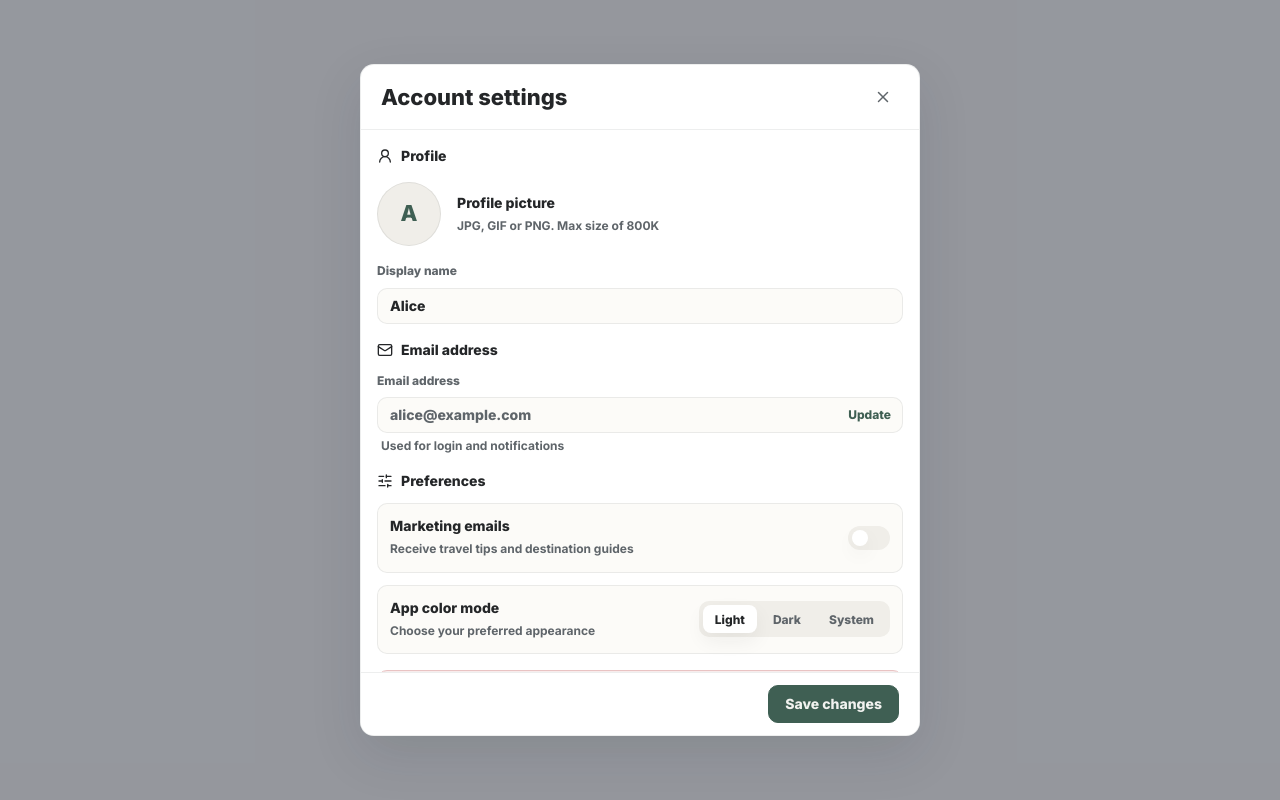
Scenario: <AccountSettingsDialog> › stays open when saving account settings fails
Click the button "Save changes".
click(834, 704)  # box [768,685,899,723]
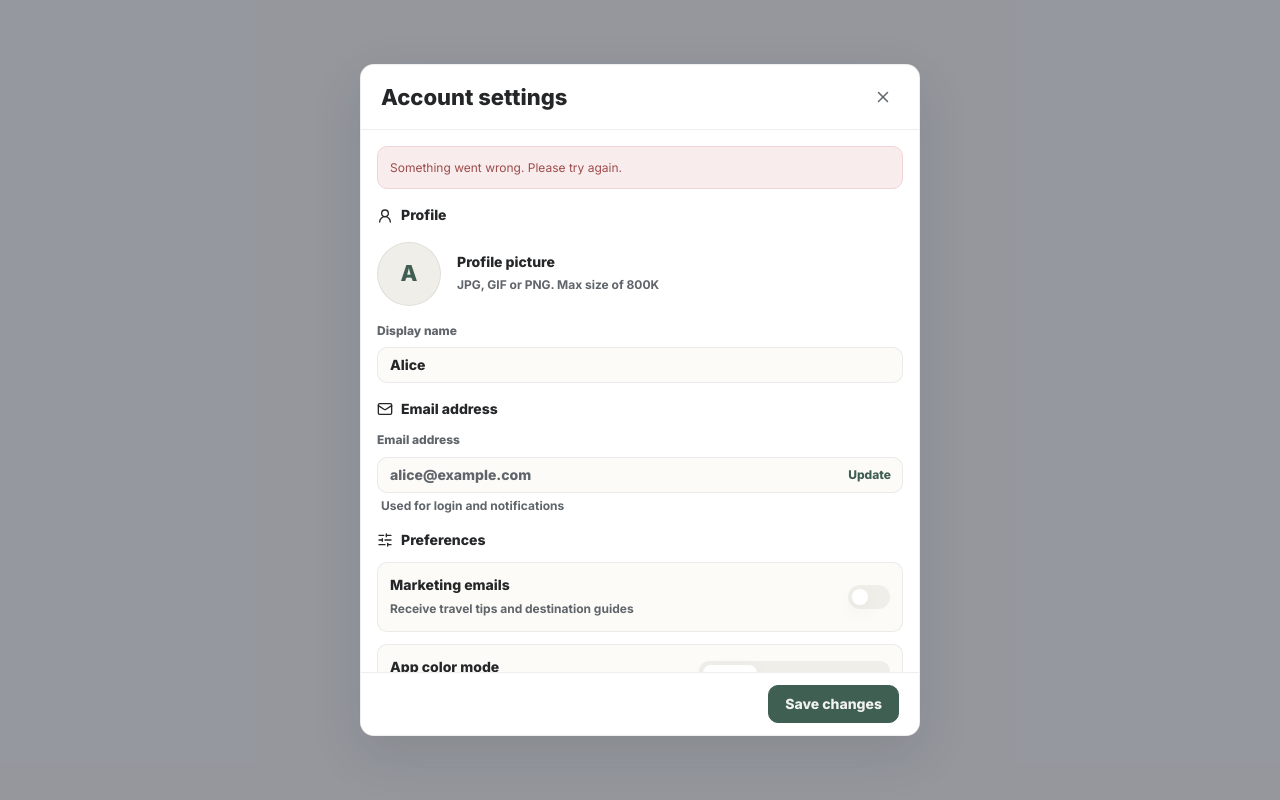
Check: the dialog "Account settings" is shown, box [360,64,920,736]
Check: the message "Something went wrong. Please try again." is shown, box [377,146,903,189]
